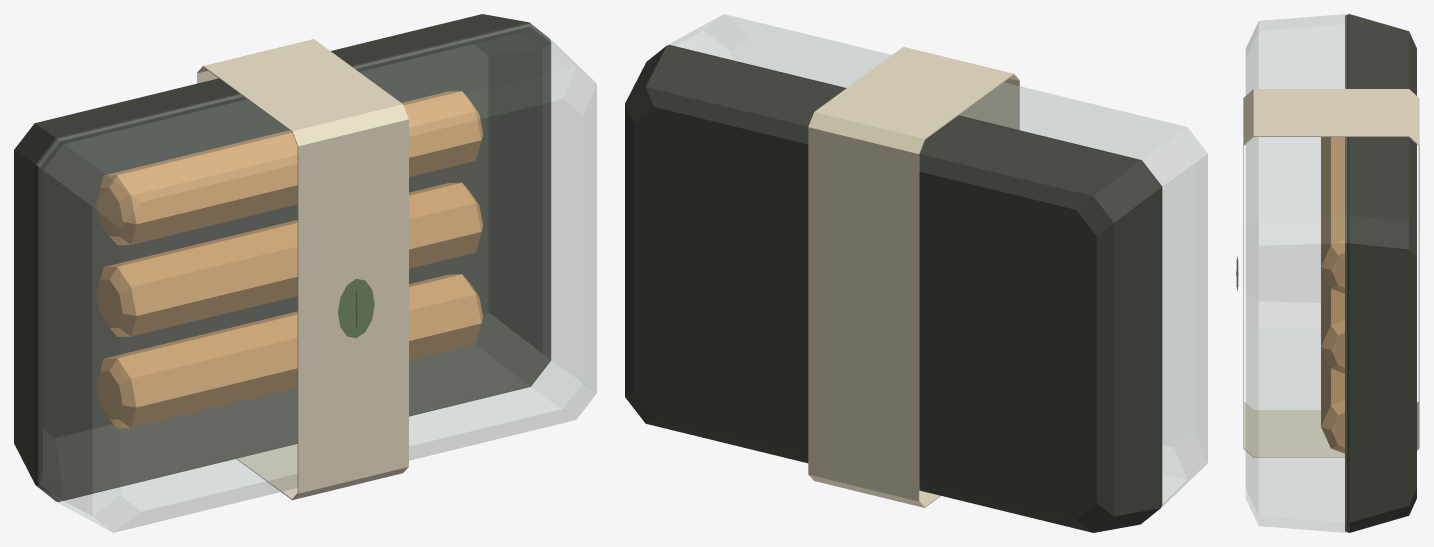
File: spring_rolls.glb
The picture shows the model from 3 angles, left to right: view 1: azimuth 30°, elevation 25°; view 2: azimuth 150°, elevation 25°; view 3: azimuth 270°, elevation 25°; orthographic projection. The views are drawn at different scales.
Visible parts, largest first — view 1: spring_rolls; view 2: spring_rolls; view 3: spring_rolls.
Boxes of the visible parts, x1=… form: spring_rolls: x1=14, y1=14, x2=596, y2=532; spring_rolls: x1=625, y1=14, x2=1207, y2=532; spring_rolls: x1=1236, y1=14, x2=1419, y2=532.
Bounding box in the file's own units: 0.2 × 0.137 × 0.0706.
